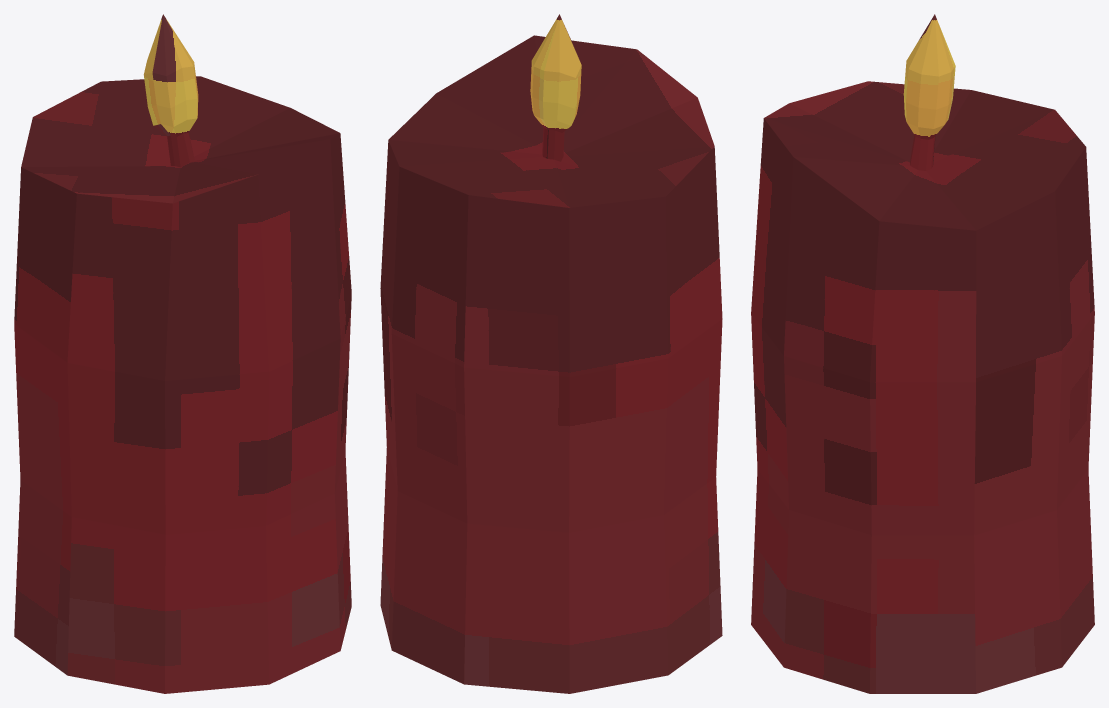
The model's file is candle.glb.
3 renders of one model, left to right at view 1: azimuth 30°, elevation 25°; view 2: azimuth 150°, elevation 25°; view 3: azimuth 270°, elevation 25°, orthographic.
Parts seen in each view (by area): view 1: Cylinder; view 2: Cylinder; view 3: Cylinder.
Part boxes in pixels (bbox=[...]): Cylinder: bbox=[14, 14, 351, 693]; Cylinder: bbox=[380, 14, 722, 693]; Cylinder: bbox=[751, 14, 1094, 693].
Size of the model in its own units: 0.3469 by 0.7071 by 0.3648.
Materials: 1 (1 with a texture image).
